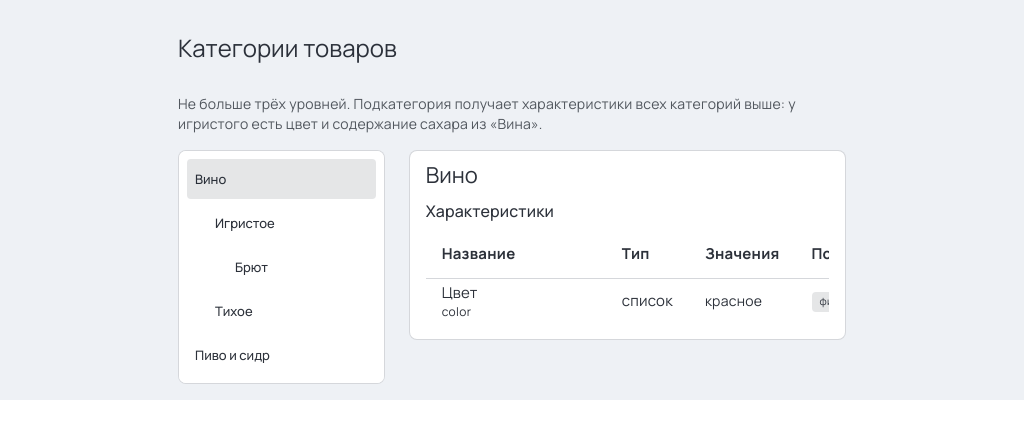
Test case: CategoriesPage › дерево по порядку, у подкатегории — унаследованные характеристики с источником
Check: the element with test id "category-card" shows "красное", box top-left (705, 291), bottom-right (762, 310)
Click the list item with test id "category-Игристое" at (245, 223), box top-left (215, 214), bottom-right (275, 232)
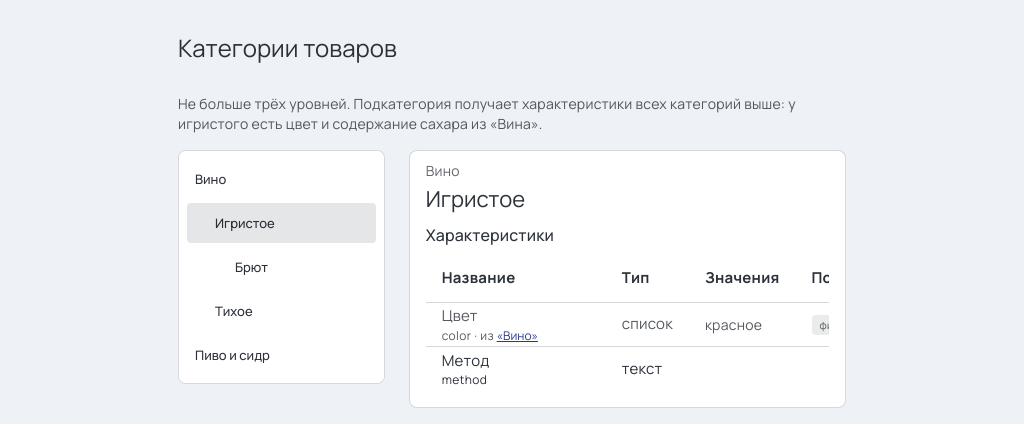
Check: the element with test id "category-card" shows "Вино", box top-left (426, 161), bottom-right (460, 180)
Check: the row with test id "attr-color" shows "«Вино»"
Click the button "«Вино»" at (517, 336), box top-left (497, 328), bottom-right (538, 344)
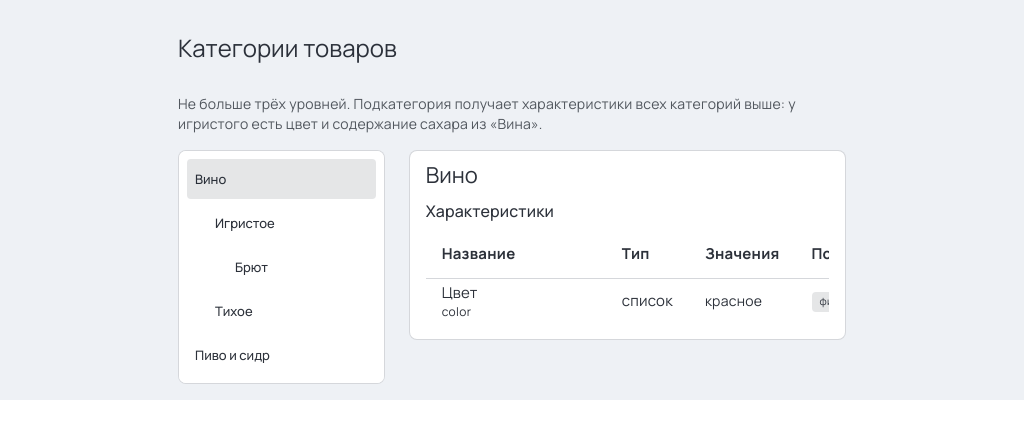
Check: the 2nd text "Вино" is shown, box top-left (426, 161), bottom-right (478, 189)
